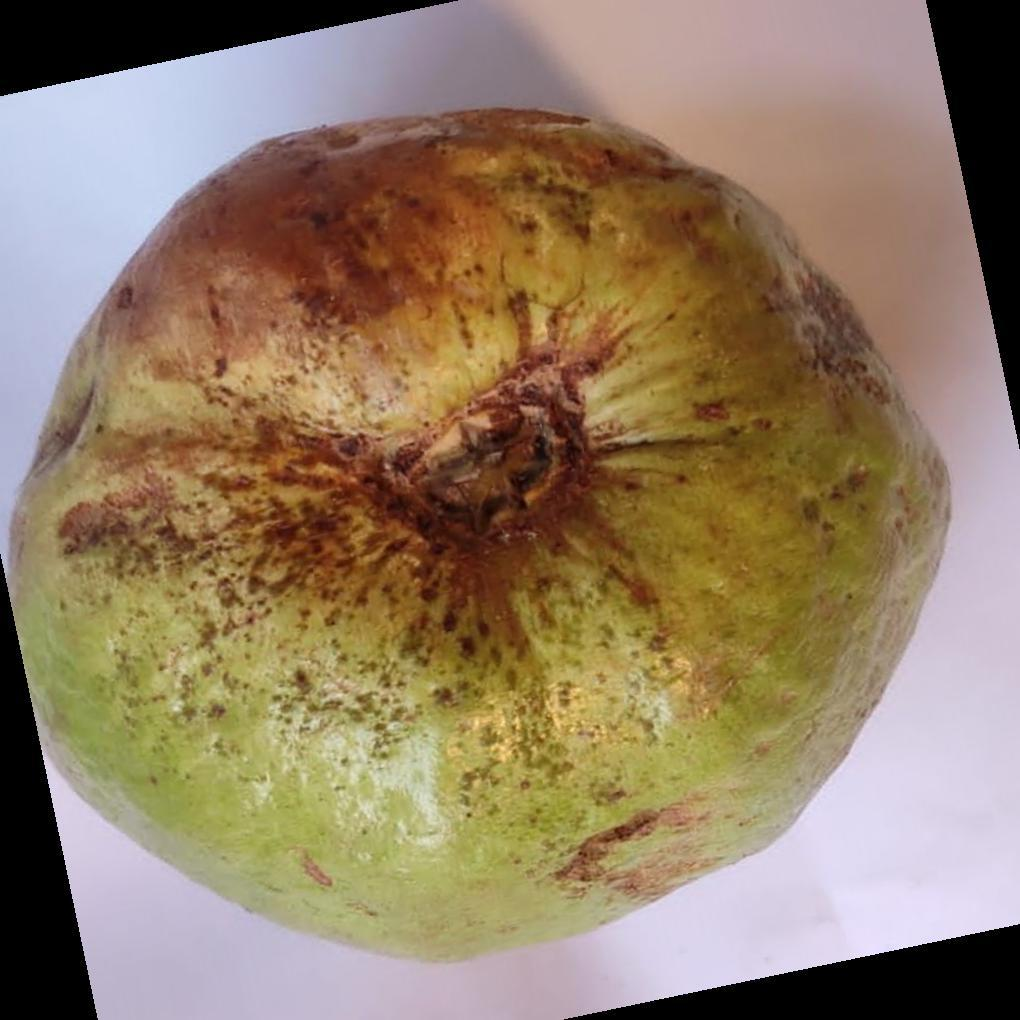FreshOrange: (5, 108, 953, 970)
